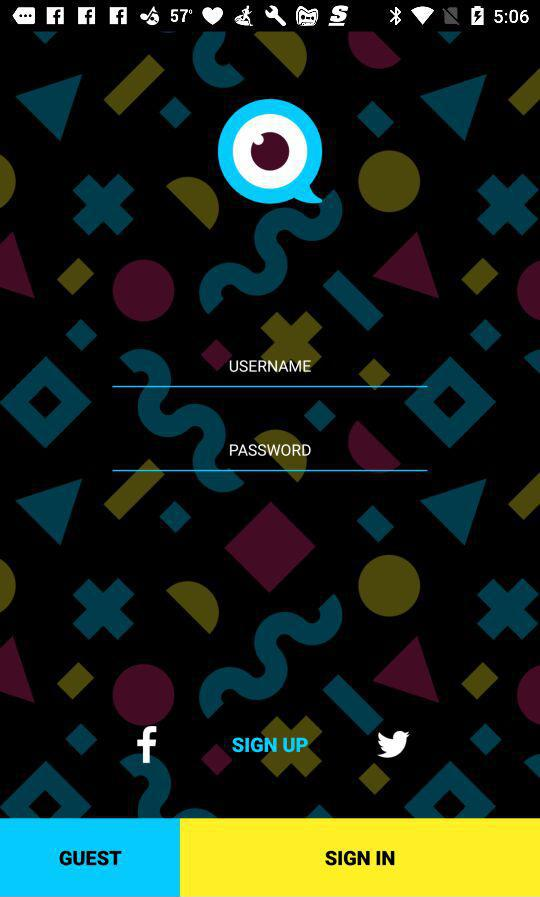BackgroundImage: (1, 32, 540, 818)
EditText: (112, 359, 429, 389), (112, 443, 429, 473)
Icon: (377, 730, 411, 759), (137, 725, 158, 764)
Image: (218, 99, 324, 206)
Text: (232, 737, 309, 753), (230, 444, 312, 458), (230, 359, 312, 373)
TextButton: (180, 818, 540, 897), (1, 818, 180, 897)
UpperTaskBar: (1, 1, 540, 32)
